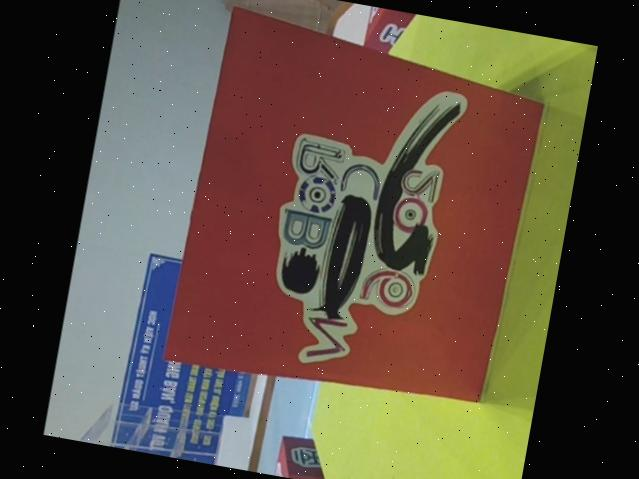R1: (157, 1, 553, 420)
R2 Fake: (363, 5, 482, 65), (270, 430, 381, 479)
